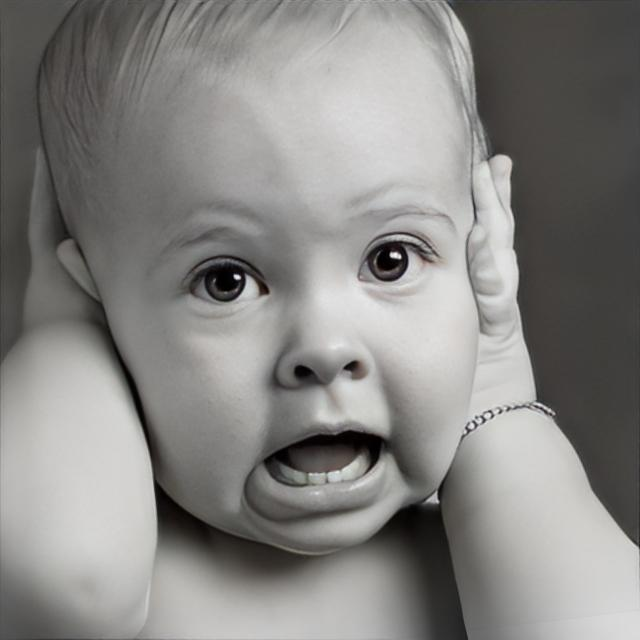Fear: (34, 0, 481, 557)
